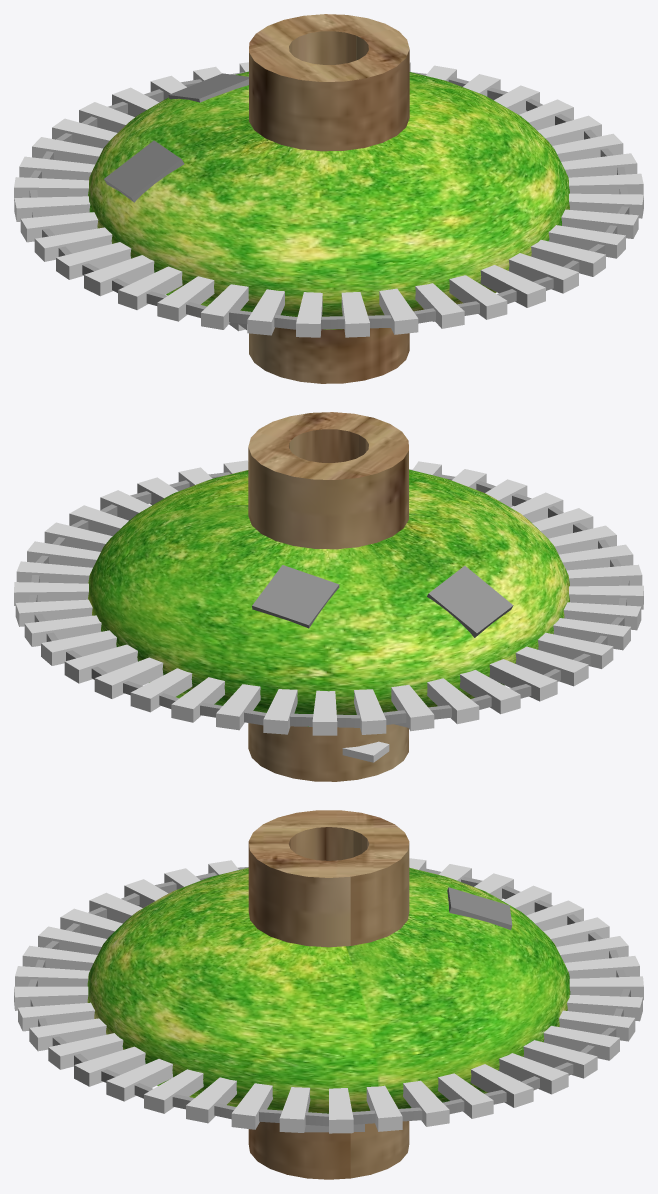
File: first_Stage1.fbx
The picture shows the model from 3 angles, top to bottom: view 1: azimuth 30°, elevation 25°; view 2: azimuth 150°, elevation 25°; view 3: azimuth 270°, elevation 25°; orthographic projection.
Visible parts, largest first — view 1: pasted__pCube1; view 2: pasted__pCube1; view 3: pasted__pCube1.
Boxes of the visible parts, bbox=[...] form: pasted__pCube1: bbox=[14, 14, 643, 383]; pasted__pCube1: bbox=[14, 412, 643, 781]; pasted__pCube1: bbox=[14, 810, 643, 1179].
Bounding box in the file's own units: 78.12 × 41.28 × 78.12.
